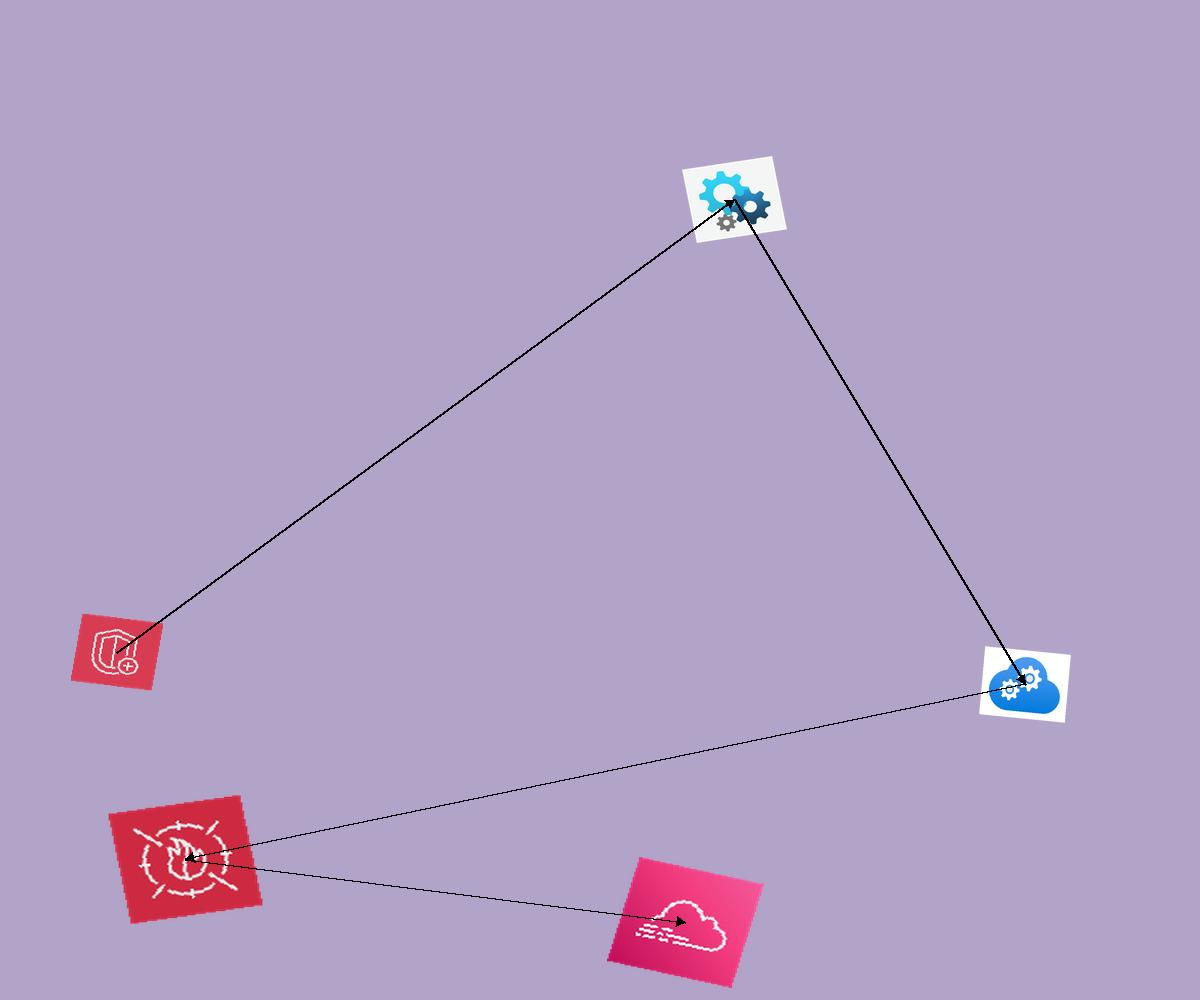AWS-CloudTrail: (607, 857, 764, 988)
AWS-Shield: (70, 613, 164, 691)
AWS-WAF: (107, 794, 264, 925)
Azure_api: (682, 156, 787, 243)
Azure_cloud_services: (979, 646, 1071, 723)
